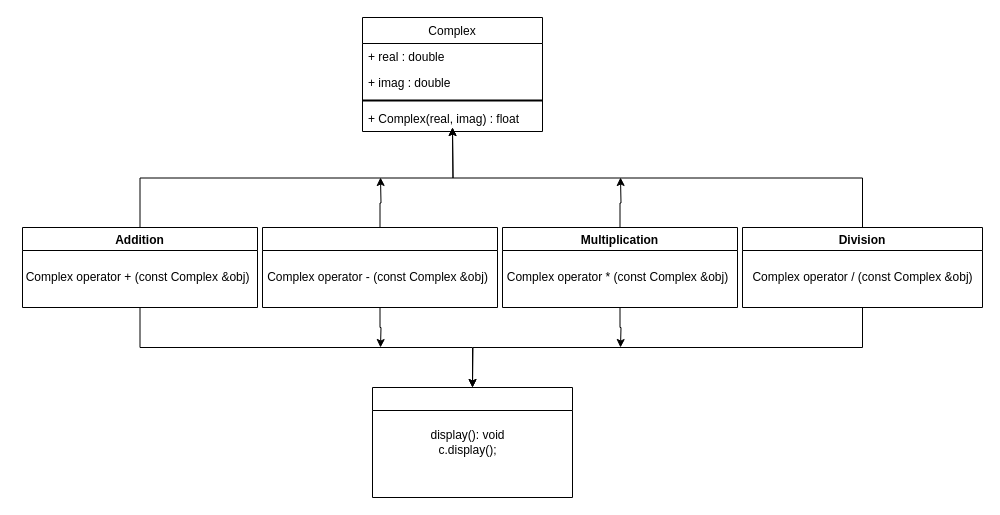
This 1000x515 diagram has some shape labels left out. The shapes that lost their labels are listed below. From the top down, each one's box as (x1, y1, x2, y2) in pixels, then its label:
(262, 226, 498, 308): Subtraction
(372, 386, 572, 498): Void Display
